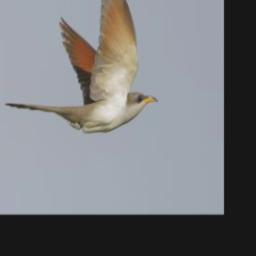Cuckoo: (5, 0, 157, 131)
